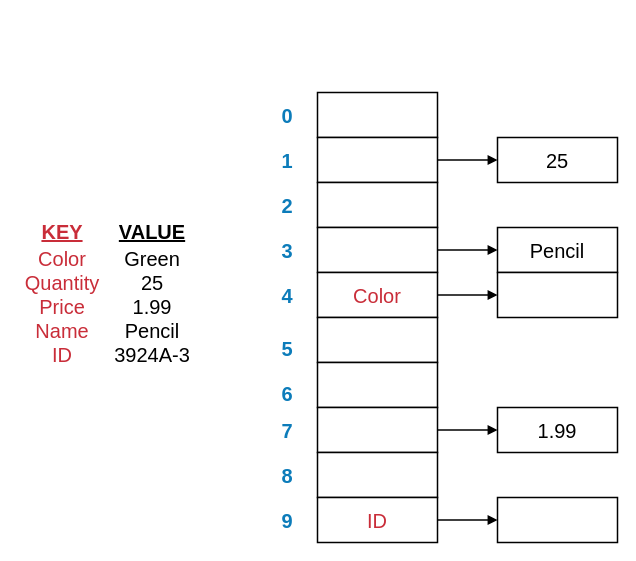
Some shapes in this 636 by 561 pixel diagram are drawn without their labels. Each missing label, with the centre of its shape:
"3924A-3" belongs at point (557, 519).
"Green" belongs at point (557, 294).
"index(n) = hash(key) % 10" belongs at point (376, 63).
"Name" belongs at point (377, 249).
"Price" belongs at point (377, 429).
"Quantity" belongs at point (377, 159).
